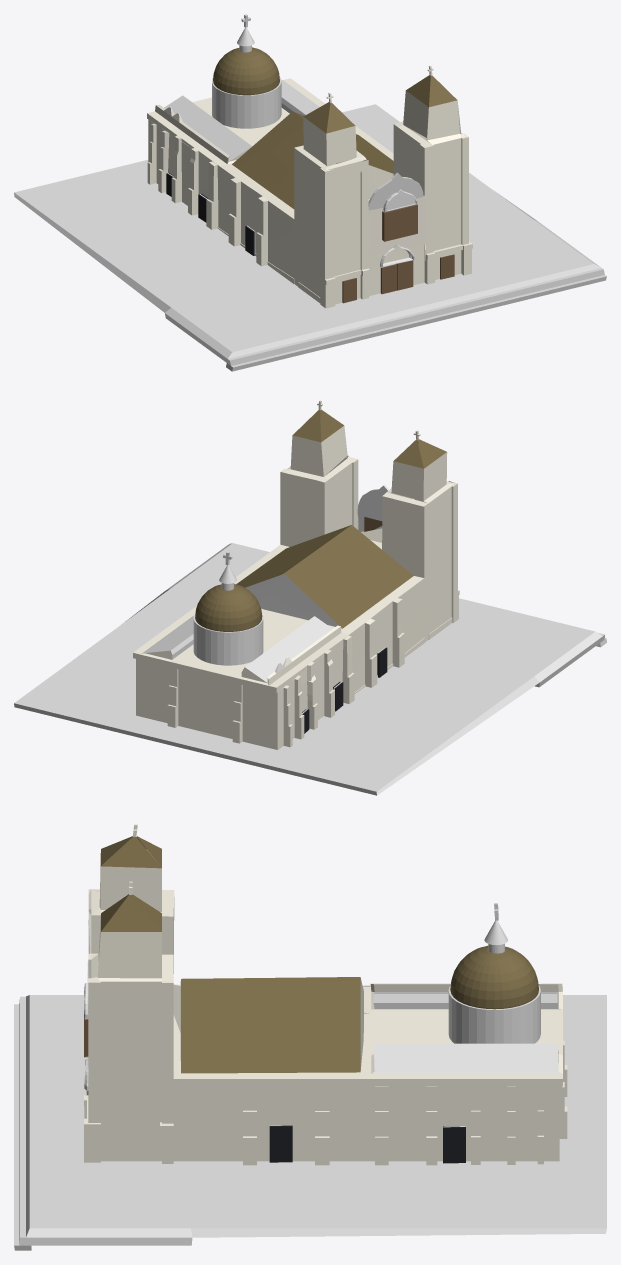
File: LaCatedralFinal.fbx
The picture shows the model from 3 angles, top to bottom: view 1: azimuth 30°, elevation 25°; view 2: azimuth 150°, elevation 25°; view 3: azimuth 270°, elevation 25°; orthographic projection. The views are drawn at different scales.
Visible parts, largest first — view 1: Plane, Cube.003, Cube.010, Sphere, Cylinder, Cube.007, CTRL_Hole.010, Circle, Cube.005, Cube.004, Cube.008, Circle.004; view 2: Plane, Cube.003, Cube.010, Sphere, Cylinder, Cube.011, Cube.007, Cube.008, Cube.005, Cube.004, Circle; view 3: Plane, Cube.003, Cube.010, Cube.008, Sphere, Cylinder, Cube.005, Cube.004, Cube.007, CTRL_Hole.002, CTRL_Hole.004.
Boxes of the visible parts, x1,y1,x2,y2 form: Plane: (14, 104, 606, 371); Cube.003: (147, 65, 472, 308); Cube.010: (232, 111, 393, 208); Sphere: (213, 47, 279, 95); Cylinder: (212, 77, 281, 128); Cube.007: (164, 95, 252, 161); CTRL_Hole.010: (382, 204, 417, 241); Circle: (368, 172, 423, 210); Cube.005: (406, 75, 457, 106); Cube.004: (303, 102, 355, 133); Cube.008: (281, 80, 319, 115); Circle.004: (383, 188, 417, 212); Plane: (14, 543, 606, 795); Cube.003: (133, 400, 459, 749); Cube.010: (236, 525, 413, 628); Sphere: (195, 584, 262, 631); Cylinder: (193, 613, 263, 665); Cube.011: (245, 573, 342, 628); Cube.007: (245, 616, 332, 682); Cube.008: (141, 616, 193, 659); Cube.005: (292, 409, 343, 442); Cube.004: (393, 439, 446, 468); Circle: (357, 484, 388, 531); Plane: (14, 995, 606, 1250); Cube.003: (84, 824, 567, 1165); Cube.010: (181, 977, 360, 1073); Cube.008: (371, 1043, 562, 1074); Sphere: (450, 945, 538, 1009); Cylinder: (448, 985, 540, 1043); Cube.005: (101, 894, 161, 931); Cube.004: (100, 836, 161, 868); Cube.007: (373, 992, 558, 1008); CTRL_Hole.002: (269, 1125, 292, 1162); CTRL_Hole.004: (443, 1126, 465, 1163).
Size of the model in its own units: 3978 by 2174 by 4123.
